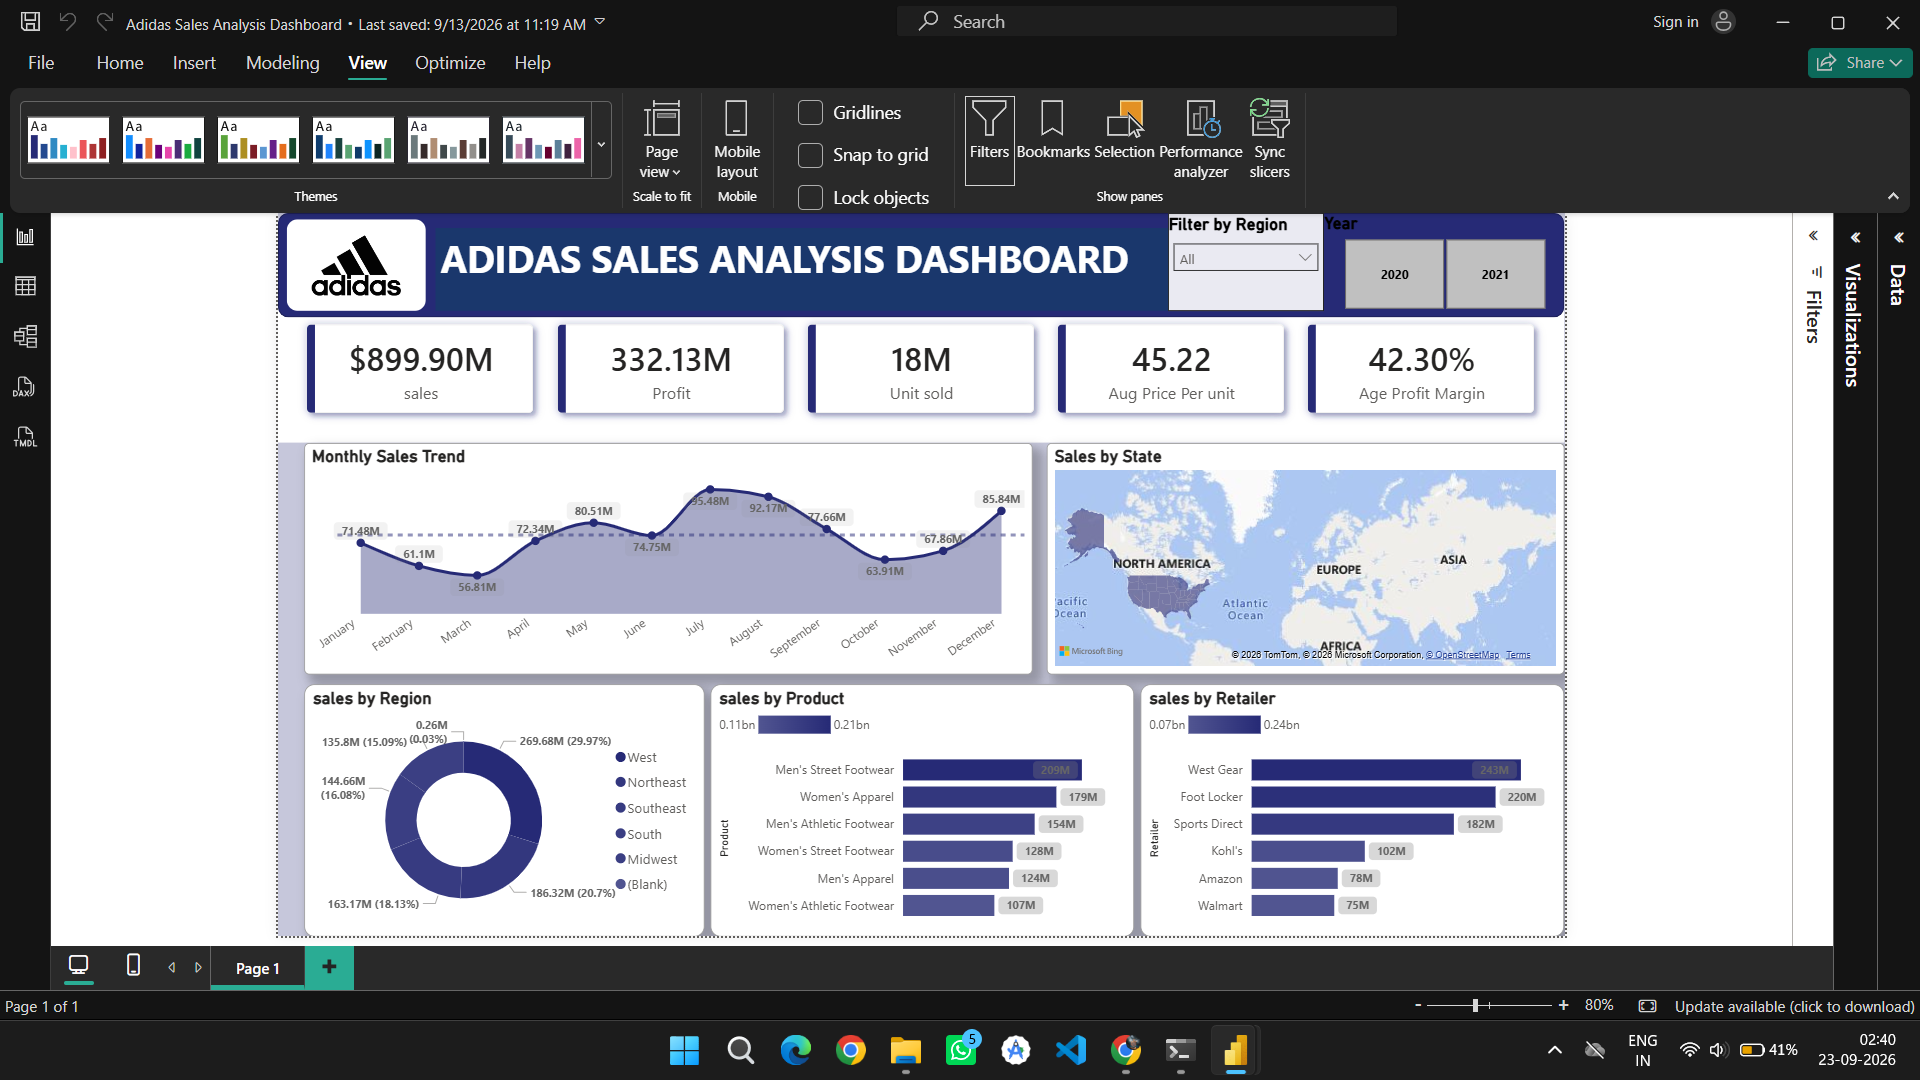

What the dashboard file says about the page in this screenshot:
{"tool":"powerbi","page":{"name":"Page 1","canvas":[1280,720],"ordinal":0},"visuals":[{"type":"cardVisual","fields":{"Data":["KPIs.sales","KPIs.Profit","KPIs.Unit sold","KPIs.Aug Price Per unit","KPIs.Age Profit Margin"]},"box":[0,82.5,1280,146.2],"z":0},{"type":"areaChart","title":"Monthly Sales Trend","fields":{"Y":["KPIs.sales"],"Category":["Data Sales Adidas.Invoice Date.Variation.Date Hierarchy.Month"]},"box":[26.2,228.8,725,230],"z":1000},{"type":"filledMap","title":"Sales by State","fields":{"Category":["Data Sales Adidas.State"]},"box":[765,228.8,515,230],"z":2000},{"type":"donutChart","fields":{"Y":["KPIs.sales"],"Category":["Data Sales Adidas.Region"]},"box":[26.2,468.8,398.8,251.2],"z":3000},{"type":"clusteredBarChart","fields":{"Y":["KPIs.sales"],"Category":["Data Sales Adidas.Product"]},"box":[430,468.8,421.2,251.2],"z":4000},{"type":"clusteredBarChart","fields":{"Y":["KPIs.sales"],"Category":["Data Sales Adidas.Retailer"]},"box":[858.8,468.8,421.2,251.2],"z":5000},{"type":"shape","box":[0,0,1280,103.8],"z":5001},{"type":"image","box":[8.8,6.2,138.8,91.2],"z":5002},{"type":"textbox","box":[156.2,15,730,82.5],"z":5003},{"type":"slicer","title":"Filter by Region","fields":{"Values":["Data Sales Adidas.Region"]},"box":[886.2,0,155,97.5],"z":5004},{"type":"slicer","title":"Year","fields":{"Values":["Data Sales Adidas.Invoice Date.Variation.Date Hierarchy.Year"]},"box":[1041.2,0,238.8,97.5],"z":5005}]}

Visuals, with their boxes on the page's 1280x720 design canvas (x1, y1, x2, y2). These are canvas units, not pixel positions in the 1920x1080 screenshot, which may show the page scaled, cropped or inside an application window:
cardVisual - KPIs.sales x KPIs.Profit: Rect(0, 82, 1280, 229)
"Monthly Sales Trend" areaChart: Rect(26, 229, 751, 459)
"Sales by State" filledMap: Rect(765, 229, 1280, 459)
donutChart - KPIs.sales x Data Sales Adidas.Region: Rect(26, 469, 425, 720)
clusteredBarChart - KPIs.sales x Data Sales Adidas.Product: Rect(430, 469, 851, 720)
clusteredBarChart - KPIs.sales x Data Sales Adidas.Retailer: Rect(859, 469, 1280, 720)
shape: Rect(0, 0, 1280, 104)
image: Rect(9, 6, 148, 97)
textbox: Rect(156, 15, 886, 98)
"Filter by Region" slicer: Rect(886, 0, 1041, 98)
"Year" slicer: Rect(1041, 0, 1280, 98)
